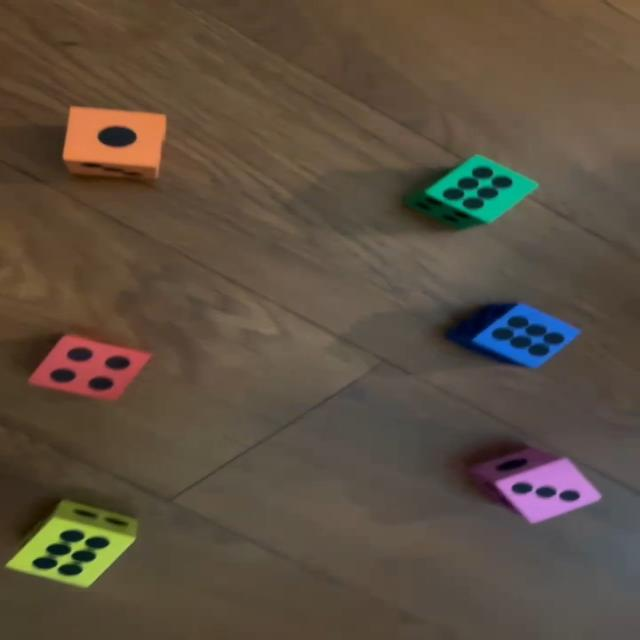blue_block: (450, 303, 582, 368)
red_block: (29, 334, 152, 399)
